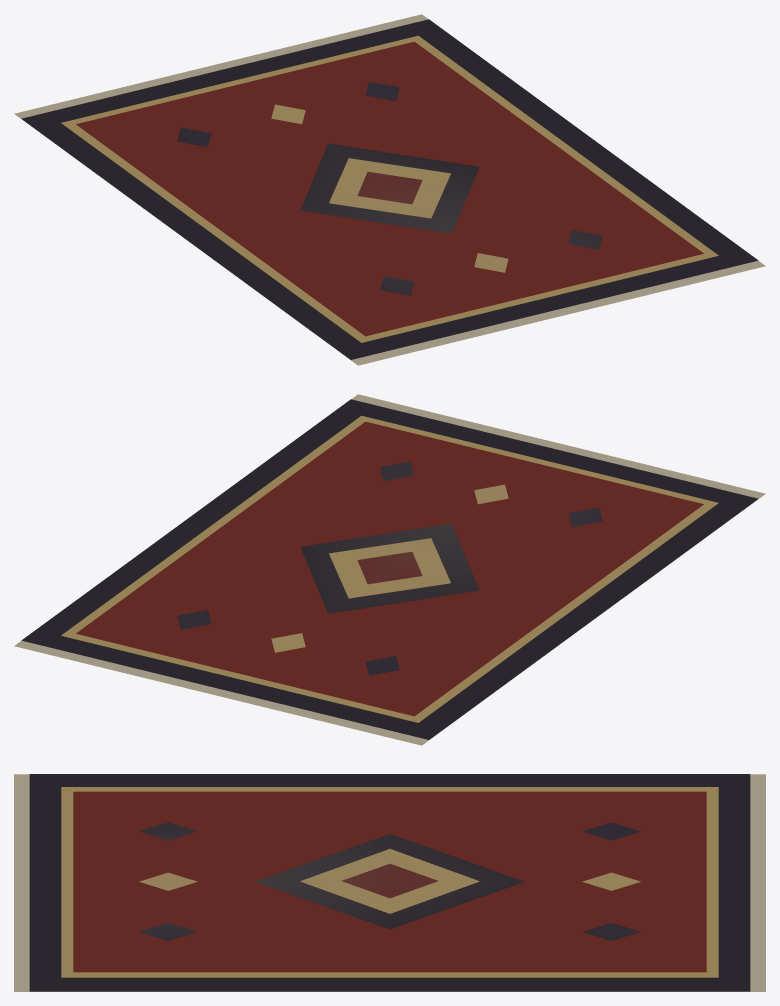
The model's file is library.rug.red.glb.
The picture shows the model from 3 angles, top to bottom: view 1: azimuth 30°, elevation 25°; view 2: azimuth 150°, elevation 25°; view 3: azimuth 270°, elevation 25°; orthographic projection. The views are drawn at different scales.
Visible parts, largest first — view 1: library_rug_red; view 2: library_rug_red; view 3: library_rug_red.
Part boxes in pixels (left/top/right/bottom): library_rug_red: left=14, top=14, right=765, bottom=365; library_rug_red: left=14, top=394, right=765, bottom=745; library_rug_red: left=14, top=774, right=765, bottom=991.
Size of what is drawn, in the model's own units: 2.6 by 0.012 by 3.8.
